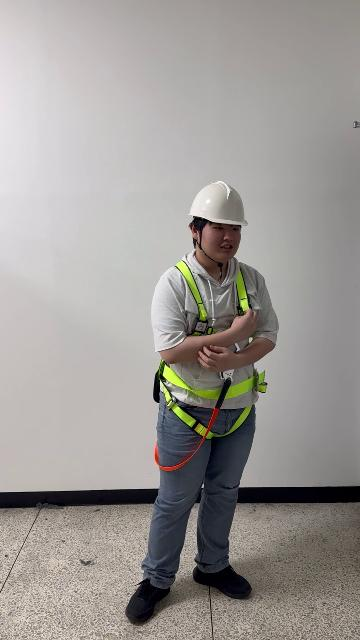helmet_worn: (187, 180, 249, 226)
shoe_not_worn: (125, 578, 171, 623), (193, 564, 251, 599)
vest_worn: (153, 261, 267, 442)
